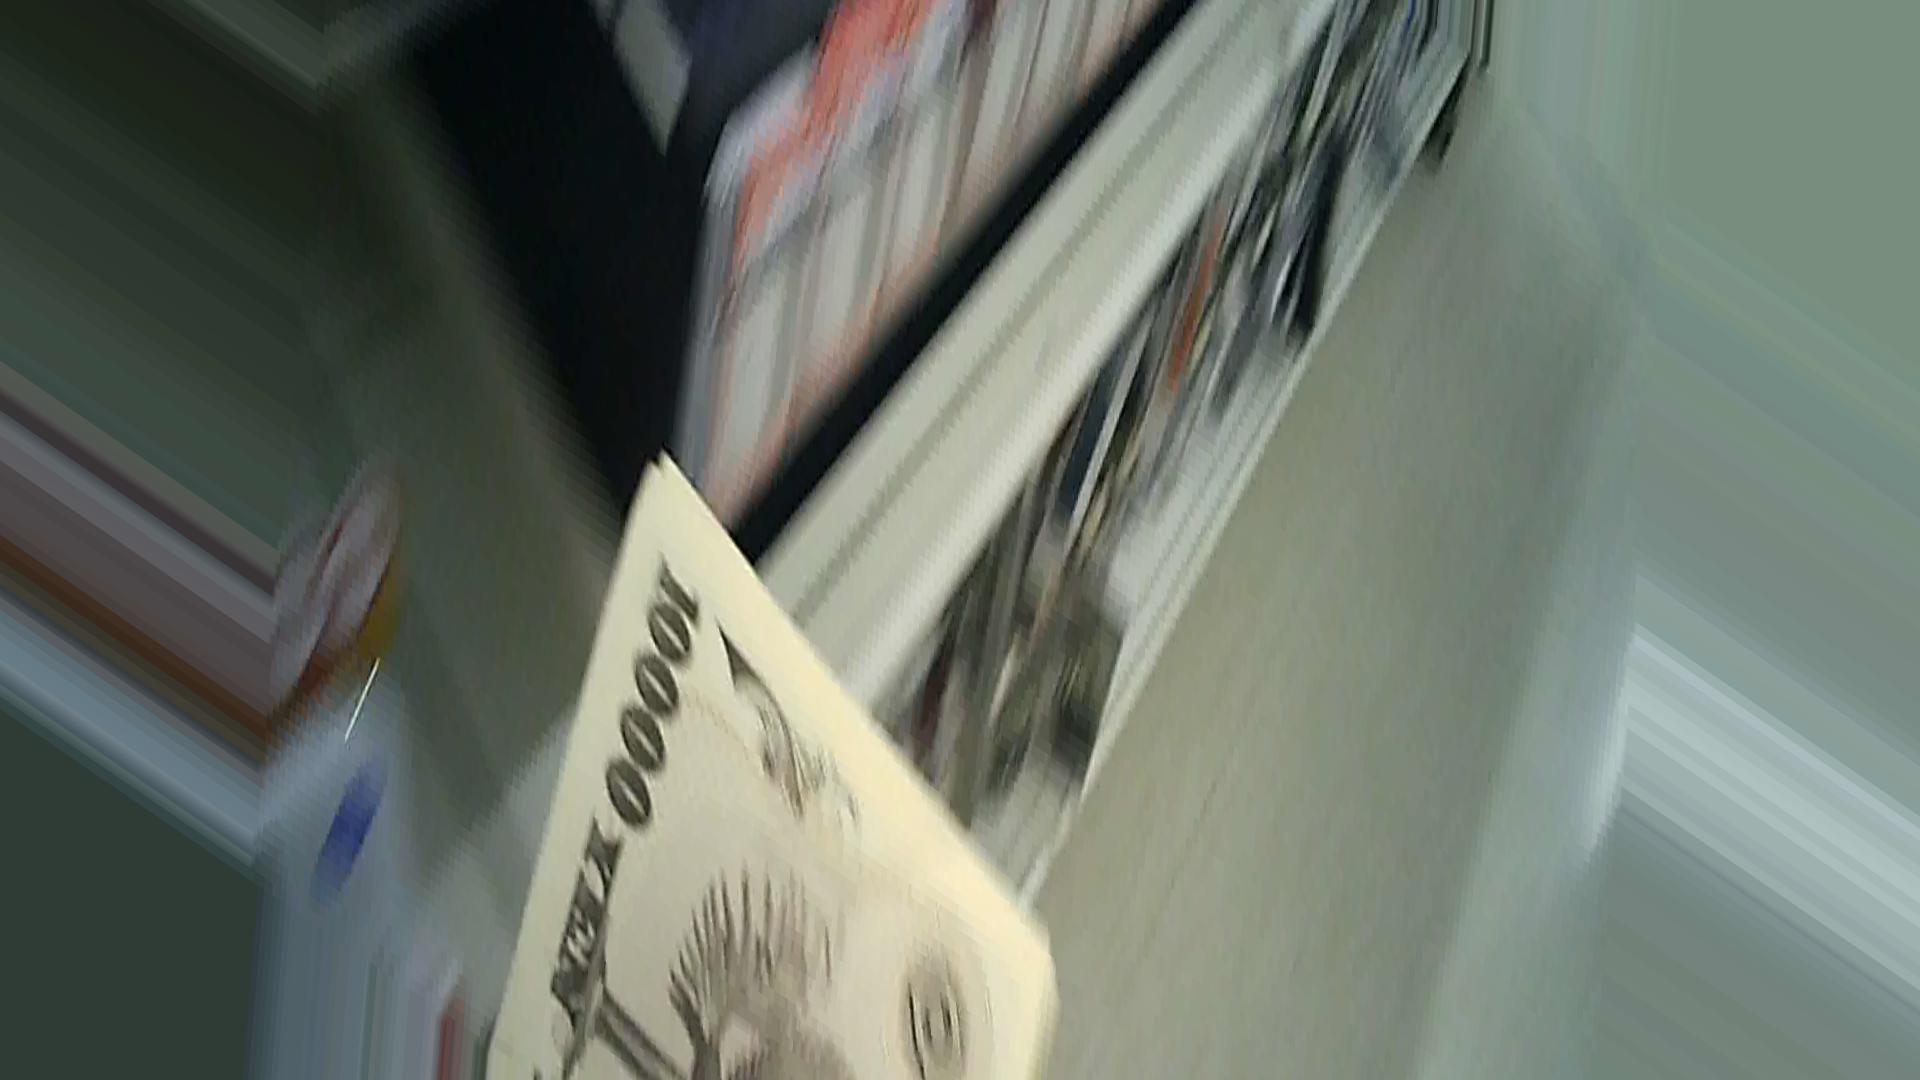10,000 Yen: (500, 442, 1035, 1075)
